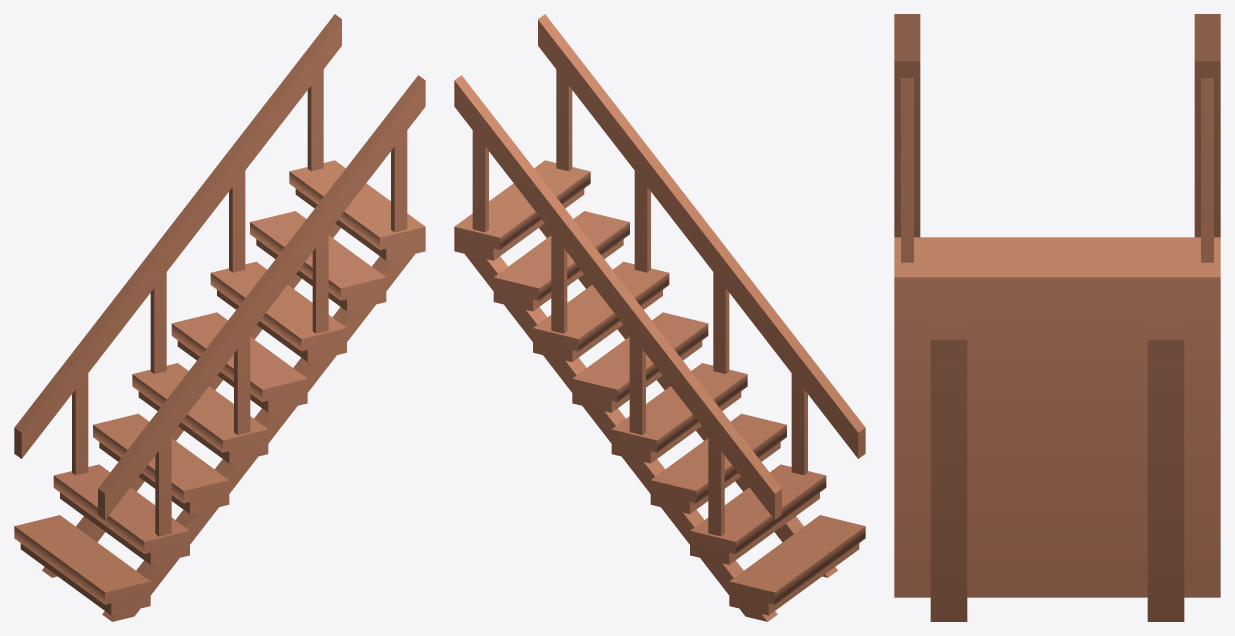
File: stairs_wood_handrail.glb
The picture shows the model from 3 angles, left to right: view 1: azimuth 30°, elevation 25°; view 2: azimuth 150°, elevation 25°; view 3: azimuth 270°, elevation 25°; orthographic projection. The views are drawn at different scales.
Visible parts, largest first — view 1: stairs-wood-handrail; view 2: stairs-wood-handrail; view 3: stairs-wood-handrail.
Part boxes in pixels (x1=…): stairs-wood-handrail: x1=14, y1=14, x2=425, y2=621; stairs-wood-handrail: x1=454, y1=14, x2=865, y2=621; stairs-wood-handrail: x1=894, y1=14, x2=1220, y2=621.
Bounding box in the file's own units: 1.02 × 1.45 × 0.5.
1 material, 1 textured.
